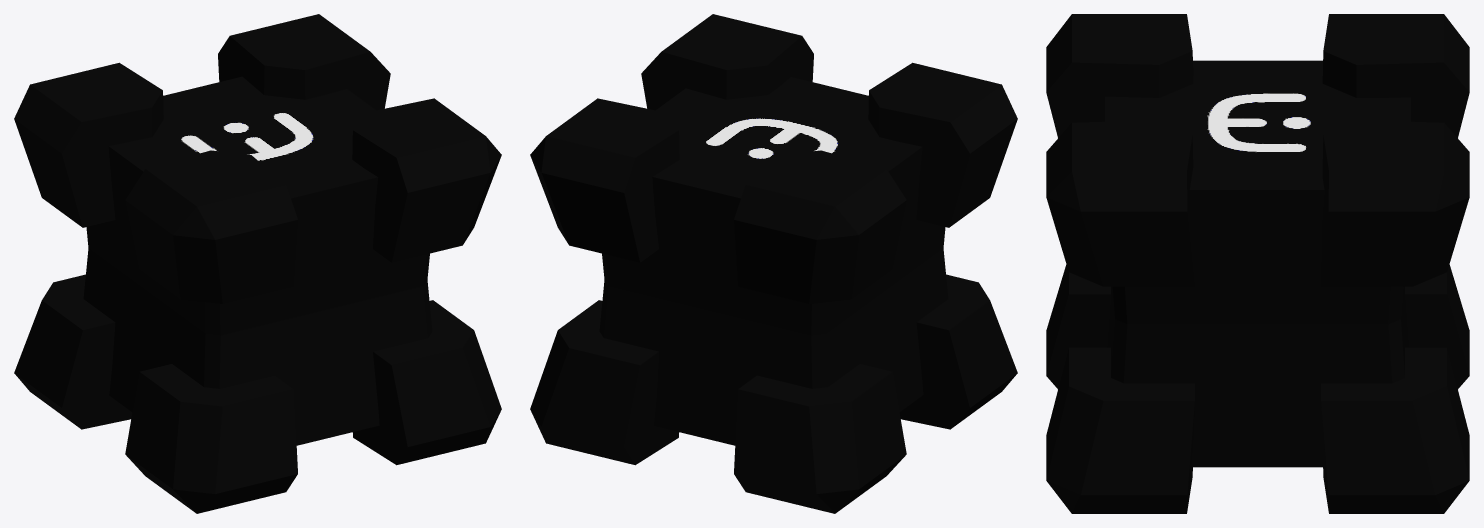
Rendered from quantum_block.fbx.
3 renders of one model, left to right at view 1: azimuth 30°, elevation 25°; view 2: azimuth 150°, elevation 25°; view 3: azimuth 270°, elevation 25°, orthographic. The views are drawn at different scales.
Parts seen in each view (by area): view 1: Cube; view 2: Cube; view 3: Cube.
Boxes of the visible parts, x1=… form: Cube: x1=14, y1=14, x2=501, y2=513; Cube: x1=530, y1=14, x2=1017, y2=513; Cube: x1=1046, y1=14, x2=1469, y2=513.
Bounding box in the file's own units: 336 × 300 × 336.
